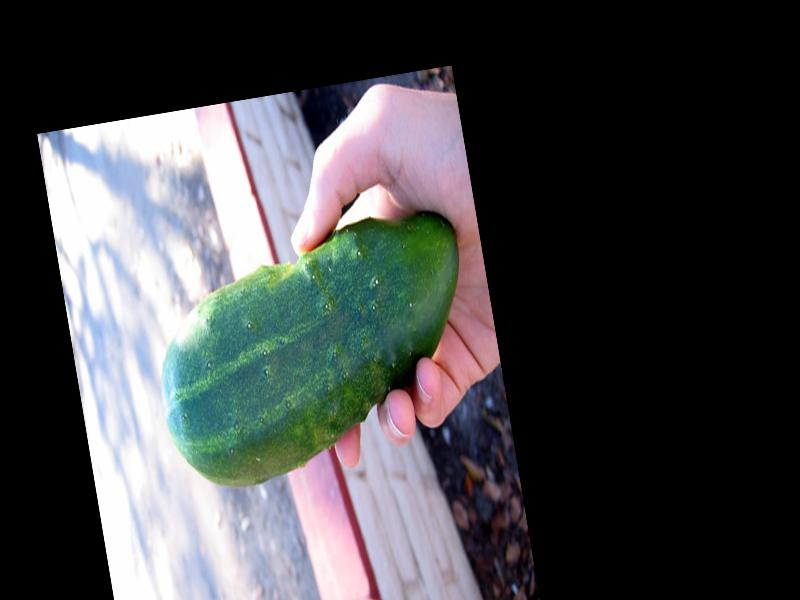Cucumber: (141, 206, 490, 499)
